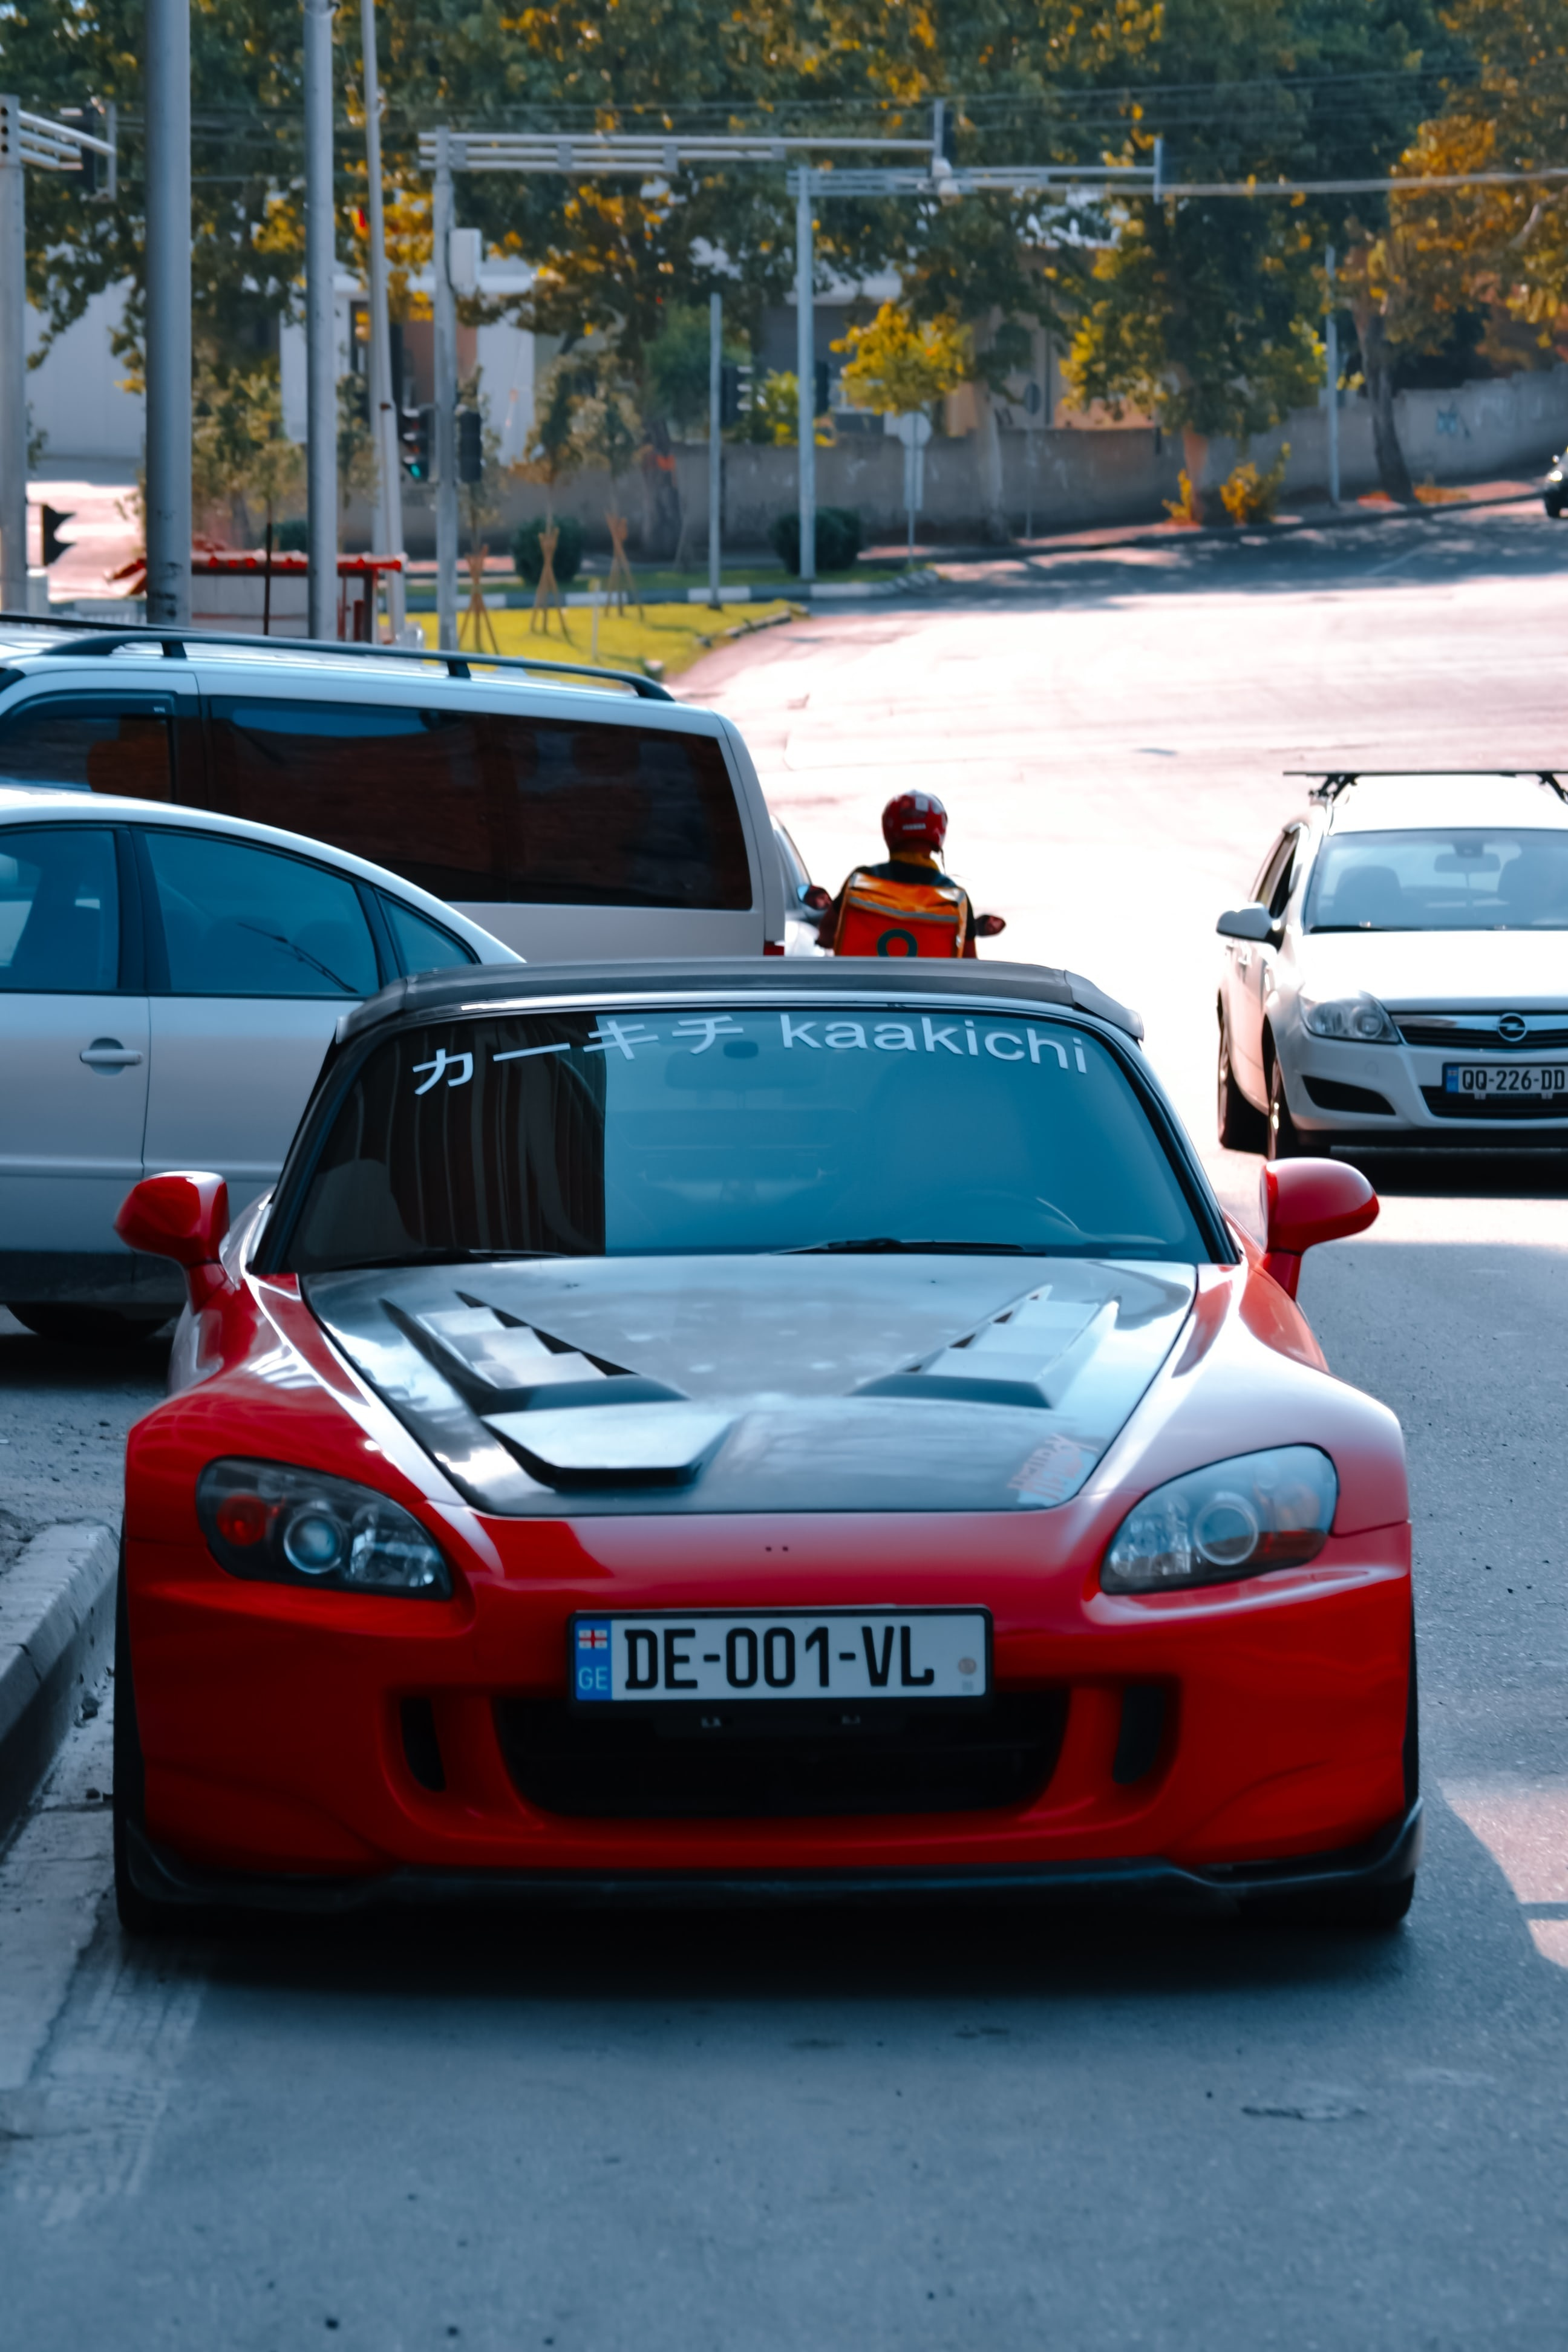plaka: (567, 1604, 993, 1705)
